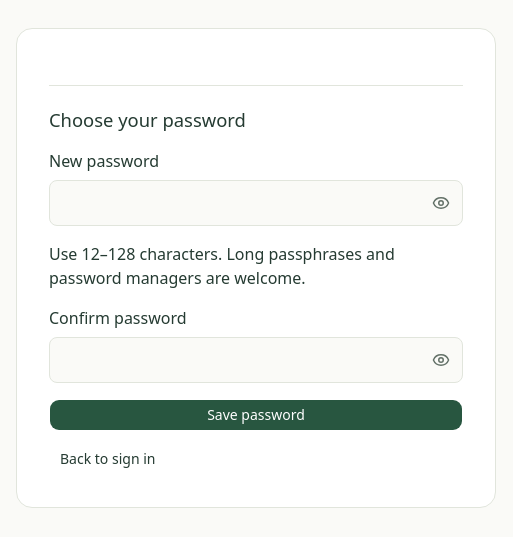
email authentication › displays expired-link errors and clears the new password fields
The width and height of the screenshot is (513, 537).
In the password field labelled "New password": (256, 203) top-left (49, 180), bottom-right (463, 226), type "a long signup password 42"
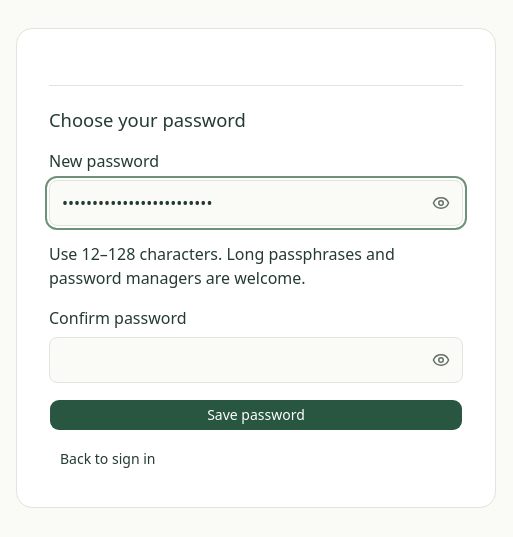
In the password field labelled "Confirm password": (256, 360) top-left (49, 337), bottom-right (463, 384), type "a long signup password 42"
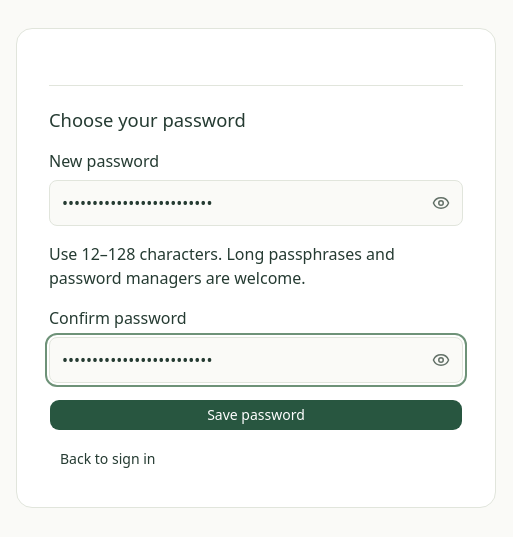
Click the button "Save password": (256, 416) top-left (49, 400), bottom-right (463, 432)
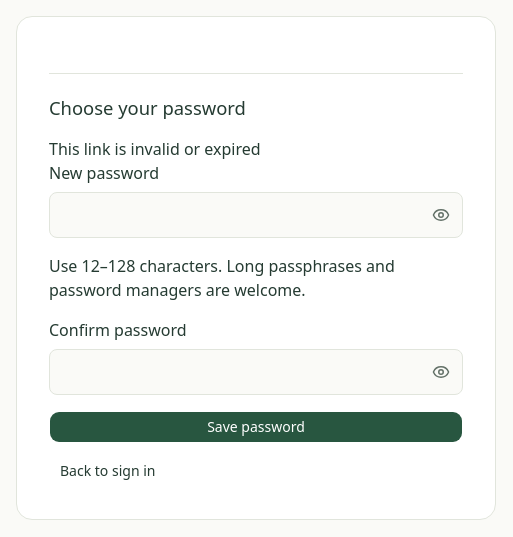
Result: the message shows "expired" at top-left (49, 138), bottom-right (261, 160)
Result: the password field labelled "New password" is empty at top-left (49, 192), bottom-right (463, 238)
Result: the password field labelled "Confirm password" is empty at top-left (49, 349), bottom-right (463, 396)
